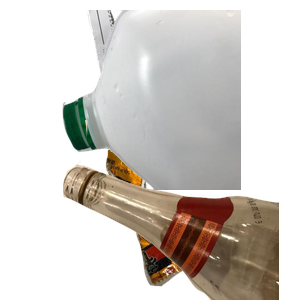glass: (60, 120, 300, 300)
paper: (85, 10, 224, 190)
plastic: (60, 10, 300, 190)
trash: (103, 147, 300, 300)
